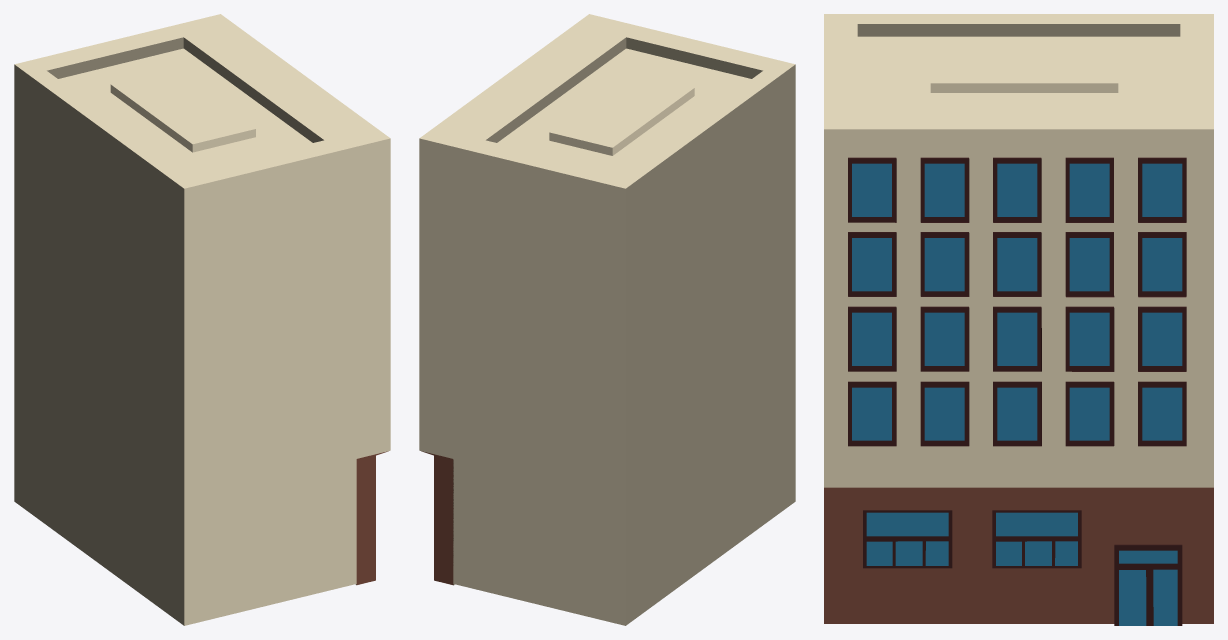
The model's file is 3level house.fbx.
3 renders of one model, left to right at view 1: azimuth 30°, elevation 25°; view 2: azimuth 150°, elevation 25°; view 3: azimuth 270°, elevation 25°, orthographic. The views are drawn at different scales.
Parts seen in each view (by area): view 1: Cube, Cube.021; view 2: Cube, Cube.021; view 3: Cube, Cube.020, Cube.021, Plane.002, Plane, Plane.001.
Boxes of the visible parts, left/top/right/bottom form: Cube: left=14, top=14, right=390, bottom=625; Cube.021: left=110, top=69, right=255, bottom=152; Cube: left=419, top=14, right=795, bottom=625; Cube.021: left=549, top=72, right=694, bottom=155; Cube: left=824, top=14, right=1213, bottom=623; Cube.020: left=848, top=157, right=1186, bottom=446; Cube.021: left=930, top=48, right=1118, bottom=92; Plane.002: left=1114, top=544, right=1182, bottom=625; Plane: left=992, top=510, right=1081, bottom=568; Plane.001: left=863, top=510, right=952, bottom=568.
Size of the model in its own units: 617 by 1243 by 873.
